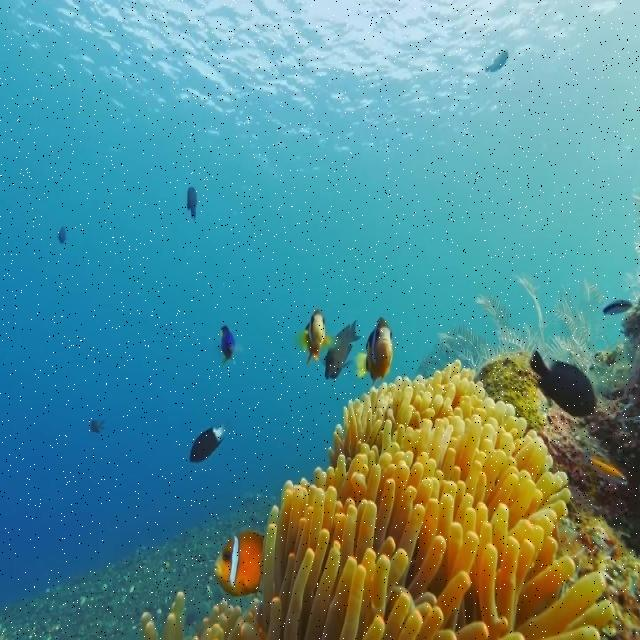aquatic plants: (471, 275, 547, 351), (547, 283, 602, 373), (438, 319, 503, 368), (582, 280, 609, 350)
fish: (532, 353, 597, 419), (212, 533, 264, 596), (356, 316, 394, 384), (324, 320, 360, 378), (295, 310, 331, 365), (582, 445, 627, 482), (189, 425, 225, 461), (220, 325, 236, 361), (602, 298, 632, 315), (484, 51, 507, 73), (187, 187, 198, 220), (91, 420, 106, 434), (58, 224, 65, 244)
reefs: (193, 359, 615, 638)
